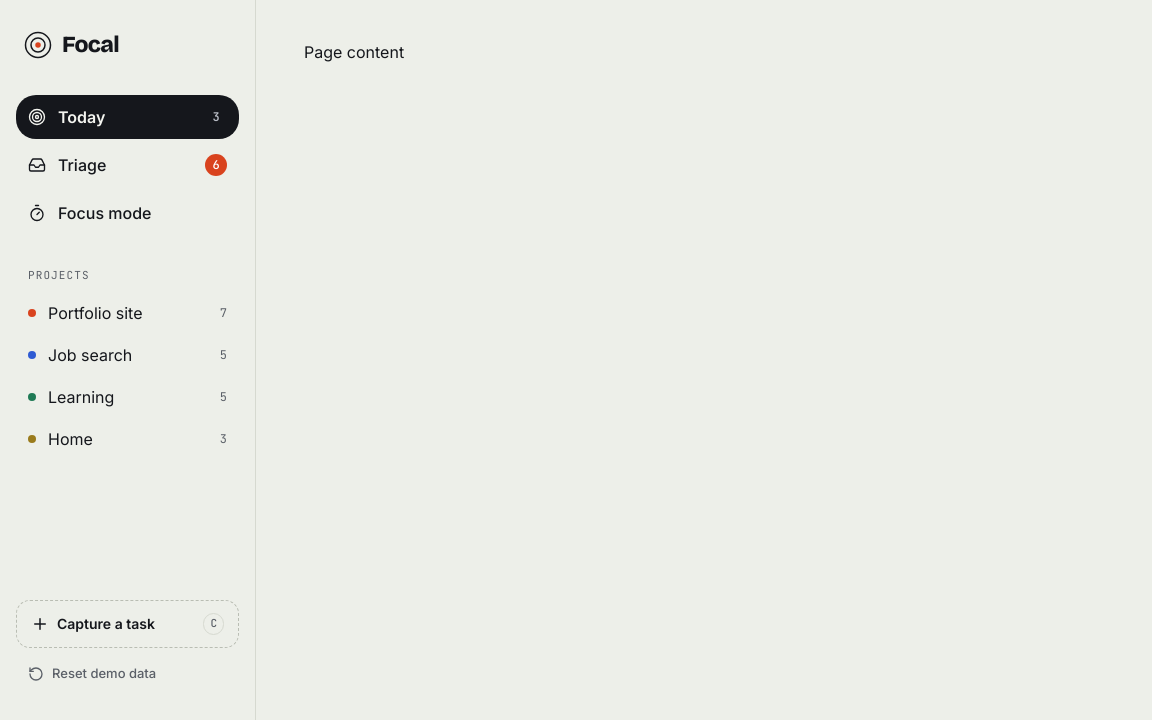
AppShell › opens capture with the C key and adds the task to the inbox
Type keys "c"
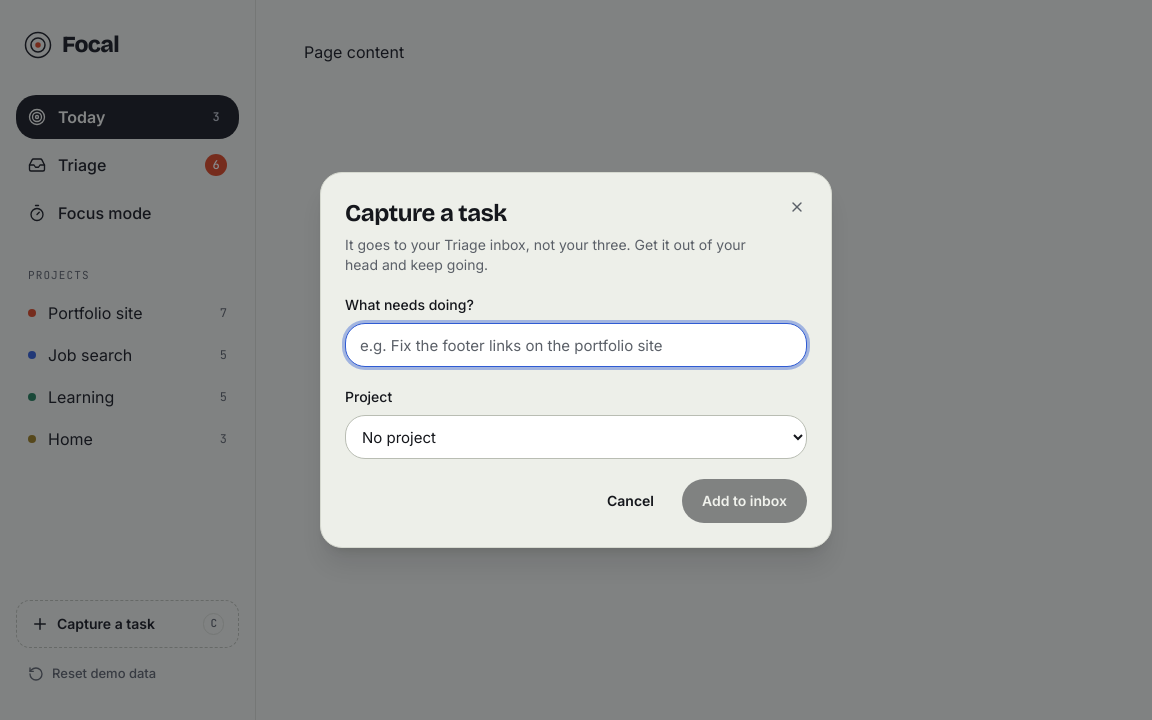
Expected: the button "Add to inbox" is disabled, [682,479,807,523]
// Typing "c" in the field must not reopen or close anything.
Type "Practice coding challenge" into the field labelled "What needs doing?".
click(576, 345); type("Practice coding challenge")  # box [345,323,807,367]
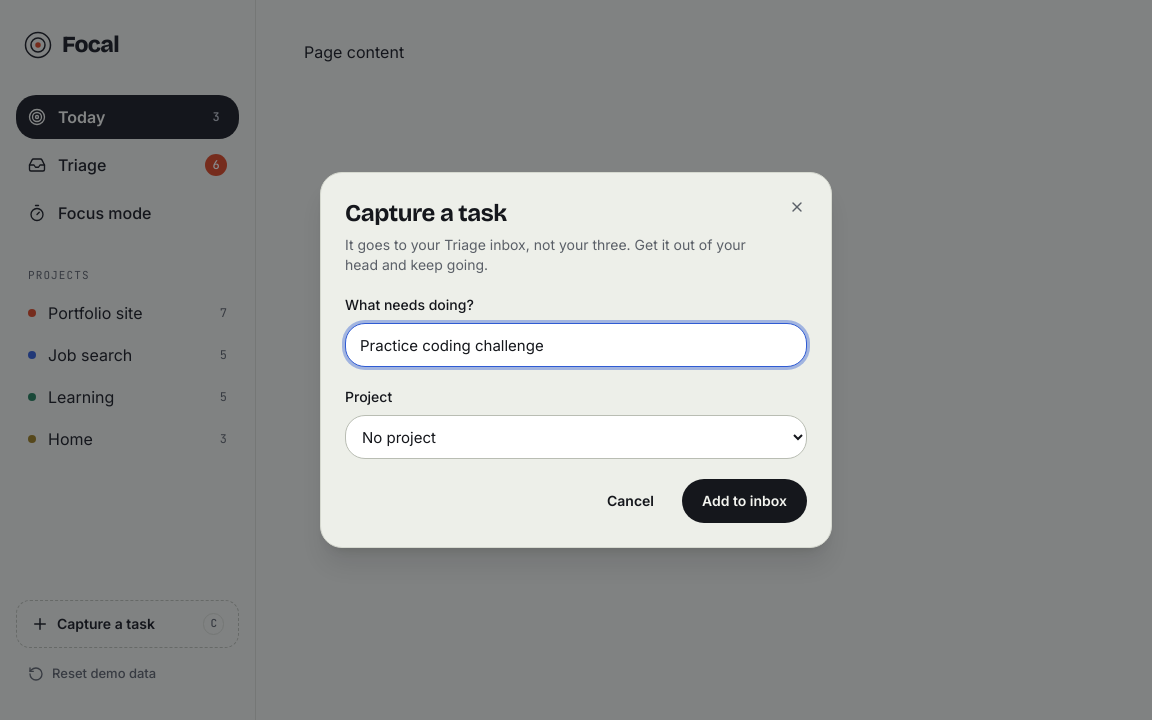
Select "Learning" in the dropdown labelled "Project" at coordinates (576, 437), box [345,415,807,459]
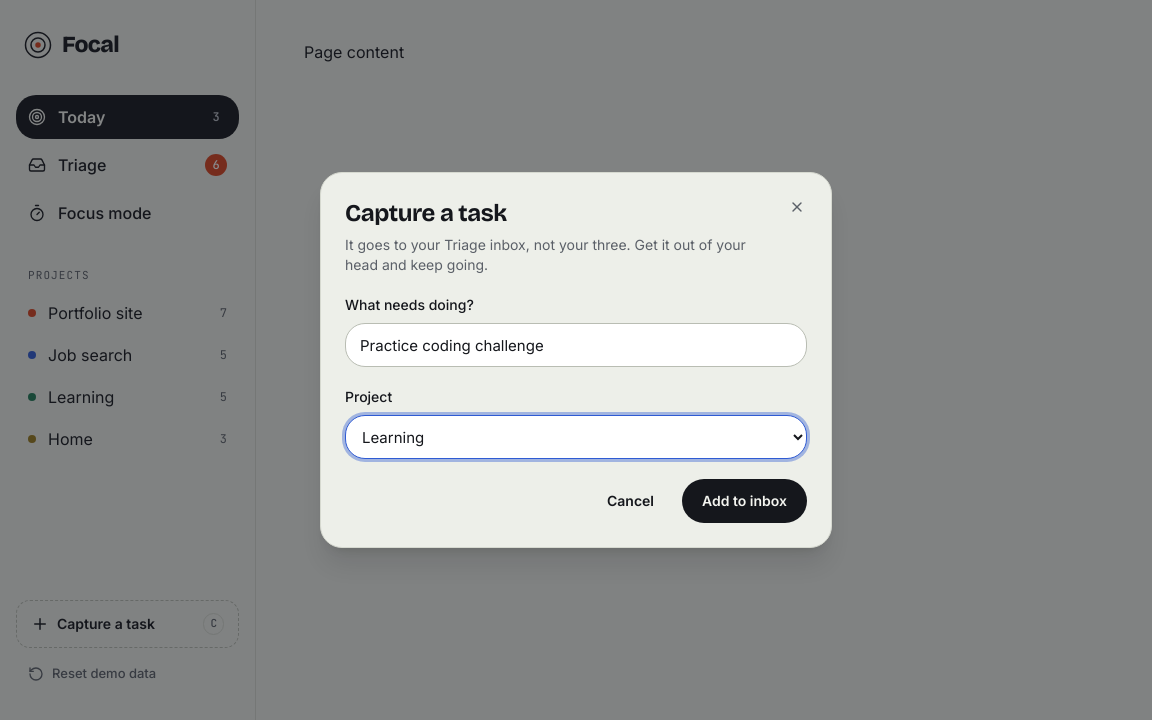
Click the button "Add to inbox".
click(744, 501)  # box [682,479,807,523]
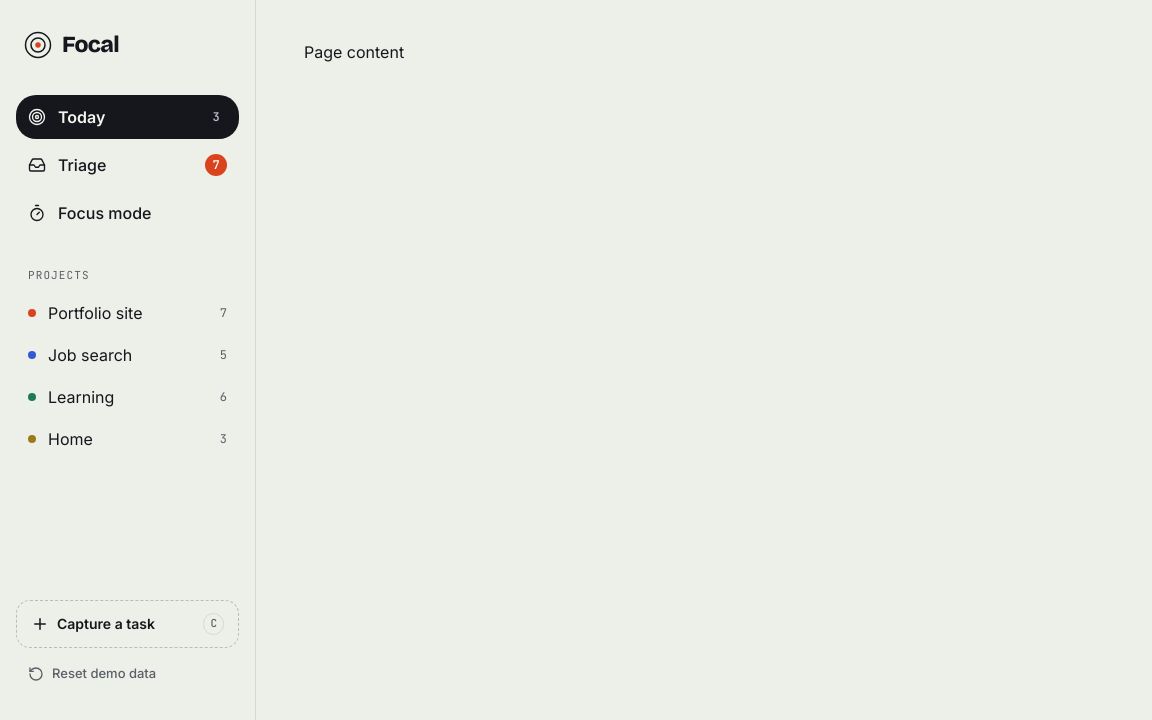
Expected: the dialog is gone
Expected: the link "Triage 7" is shown, [28,154,227,176]
